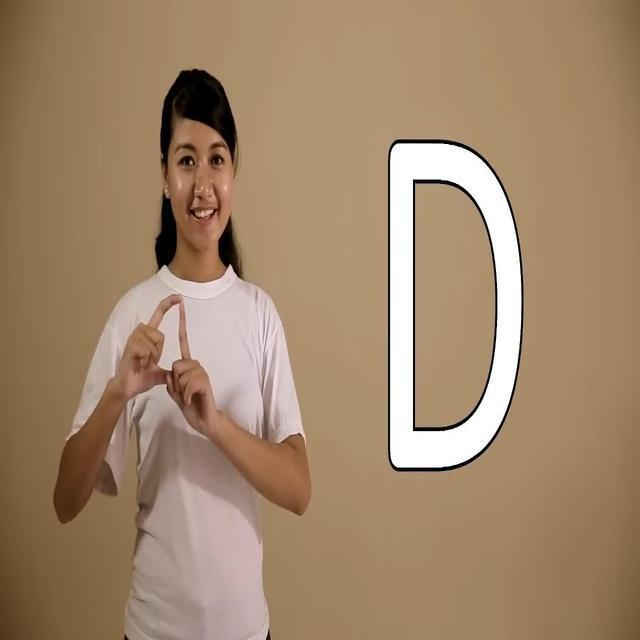D: (134, 290, 206, 402)
